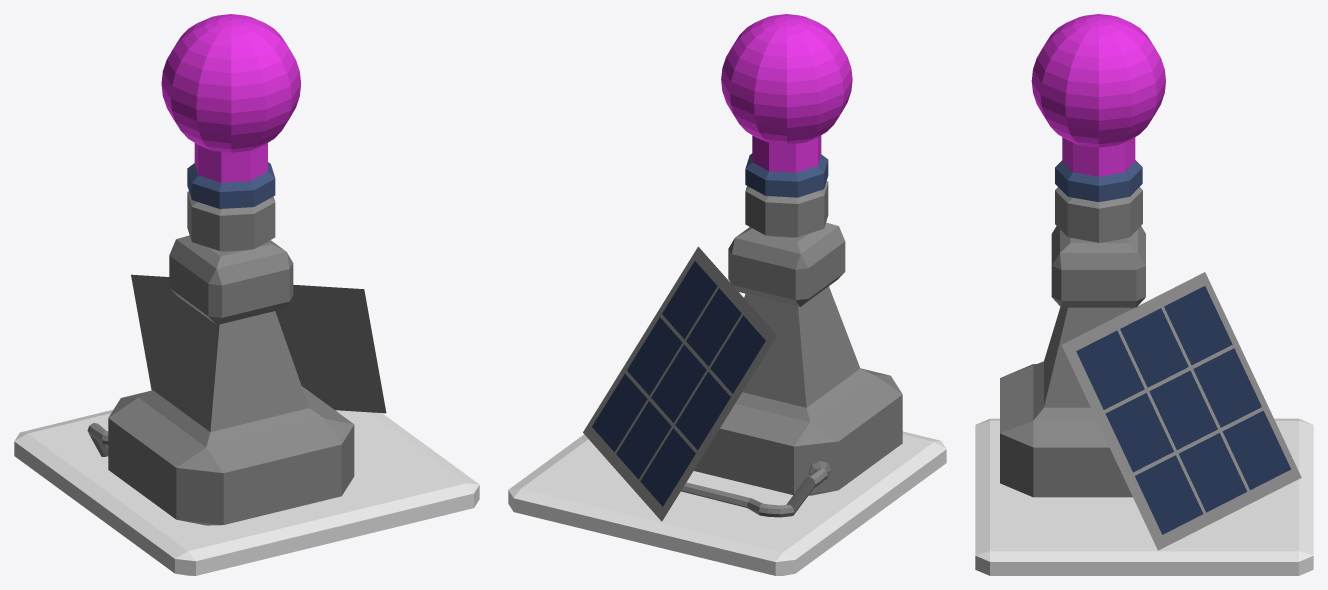
The model's file is solar.fbx.
3 views of the same model, side by side, from view 1: azimuth 30°, elevation 25°; view 2: azimuth 150°, elevation 25°; view 3: azimuth 270°, elevation 25° (orthographic). The views are drawn at different scales.
Visible parts, largest first — view 1: En_Solar, Base; view 2: En_Solar, Base; view 3: En_Solar, Base.
Boxes of the visible parts, x1,y1,x2,y2 form: En_Solar: [87, 14, 386, 525]; Base: [14, 410, 479, 575]; En_Solar: [583, 14, 902, 521]; Base: [508, 431, 946, 575]; En_Solar: [1000, 14, 1301, 550]; Base: [975, 418, 1313, 575].
Bounding box in the file's own units: 200 × 307 × 200.
